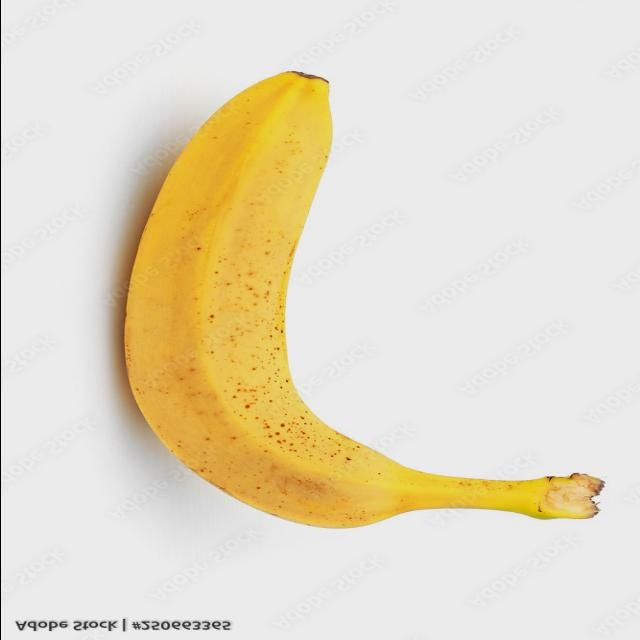agrume: (112, 63, 612, 539)
